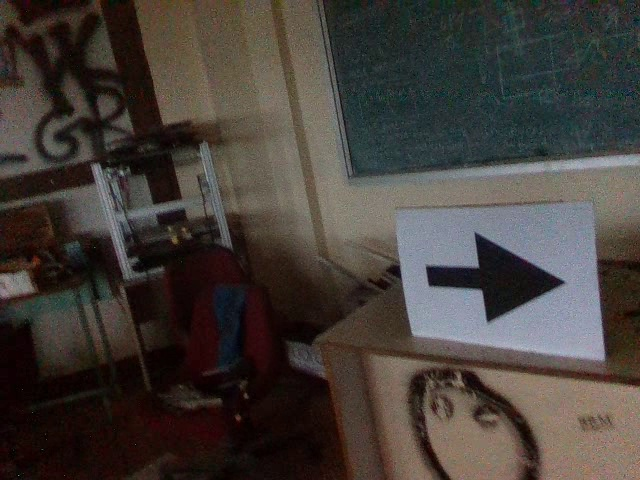Right: (419, 229, 573, 327)
